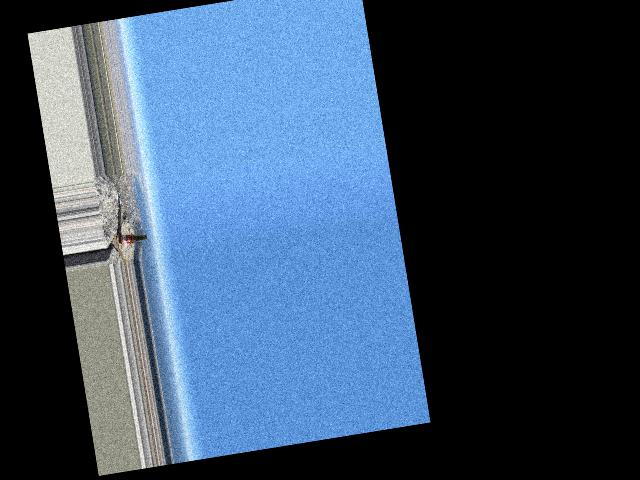beer: (118, 231, 147, 245)
